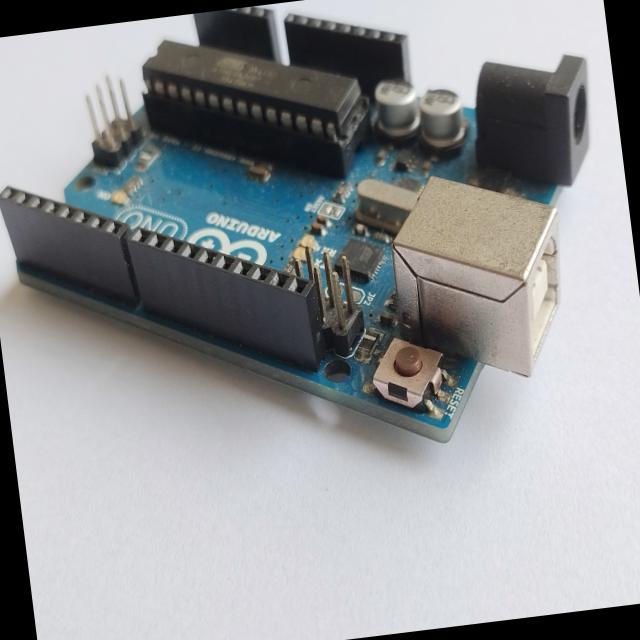arduino: (0, 0, 640, 501)
